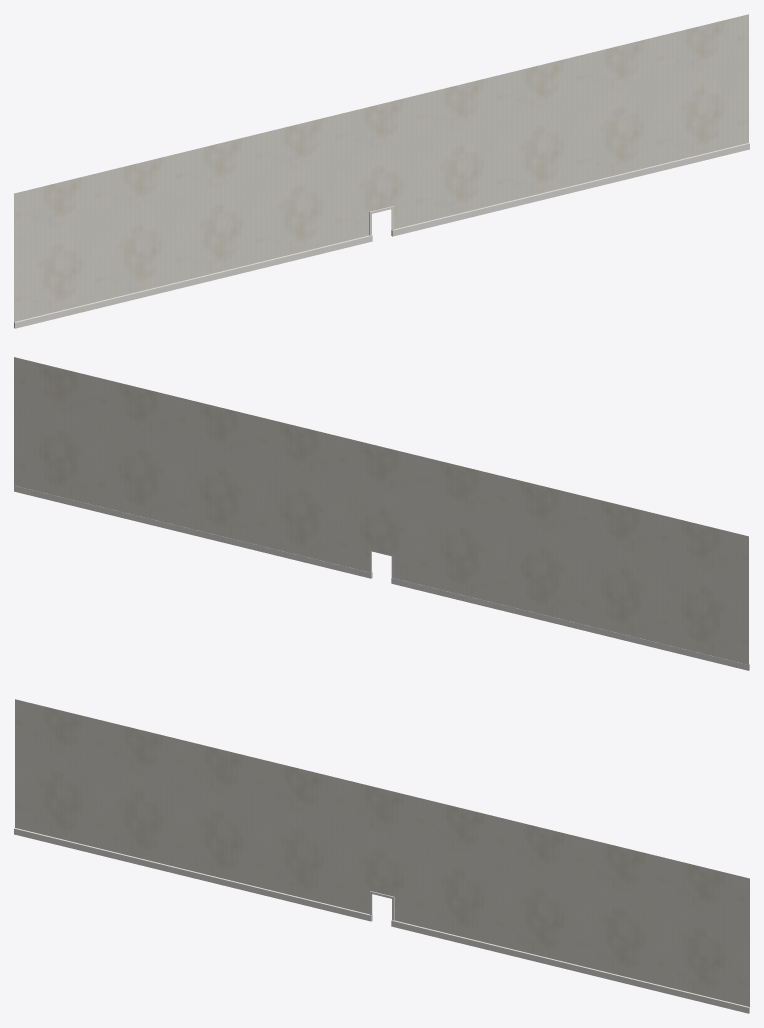
Rendered from wall18_vent.gltf.
3 renders of one model, top to bottom at view 1: azimuth 30°, elevation 25°; view 2: azimuth 150°, elevation 25°; view 3: azimuth 330°, elevation 25°, orthographic.
Parts seen in each view (by area): view 1: jx_w18_vent; view 2: jx_w18_vent; view 3: jx_w18_vent.
Boxes of the visible parts, x1,y1,x2,y2 form: jx_w18_vent: [14, 14, 749, 328]; jx_w18_vent: [14, 357, 749, 670]; jx_w18_vent: [14, 699, 749, 1013].
Size of the model in its own units: 18.3 by 3.2 by 0.05.
2 materials, 2 textured.
